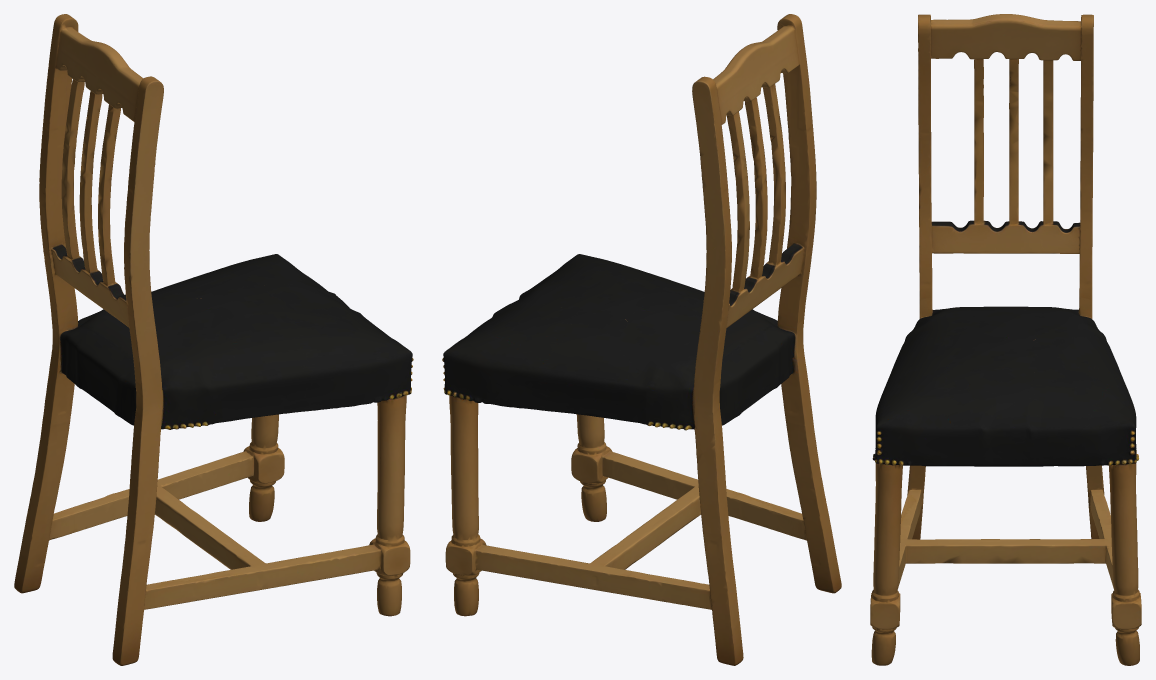
The model's file is silla.glb.
3 renders of one model, left to right at view 1: azimuth 30°, elevation 25°; view 2: azimuth 150°, elevation 25°; view 3: azimuth 270°, elevation 25°, orthographic. The views are drawn at different scales.
Visible parts, largest first — view 1: tripo_node_60406d57-fd53-4e21-98eb-b7fd1f770d20; view 2: tripo_node_60406d57-fd53-4e21-98eb-b7fd1f770d20; view 3: tripo_node_60406d57-fd53-4e21-98eb-b7fd1f770d20.
Boxes of the visible parts, <box> form: tripo_node_60406d57-fd53-4e21-98eb-b7fd1f770d20: <box>14,14,413,665</box>; tripo_node_60406d57-fd53-4e21-98eb-b7fd1f770d20: <box>442,14,841,665</box>; tripo_node_60406d57-fd53-4e21-98eb-b7fd1f770d20: <box>870,14,1141,665</box>.
Bounding box in the file's own units: 0.5188 × 1 × 0.4517.
1 material, 1 textured.
